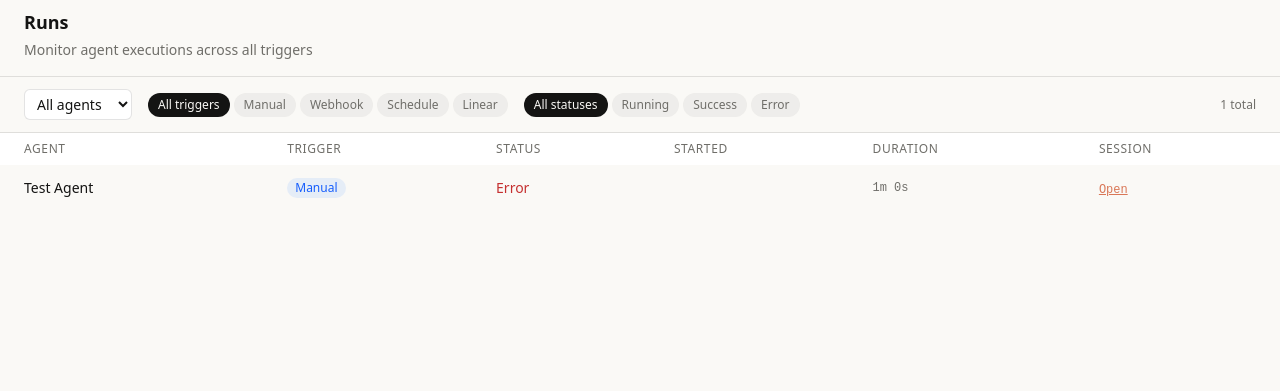
Test: RunsPage › shows error details in the detail panel when execution has an error
What coordinates should you click on to do the following:
click the button "Test Agent"
I would click on:
 (59, 188)
Its box is [24, 178, 93, 198].
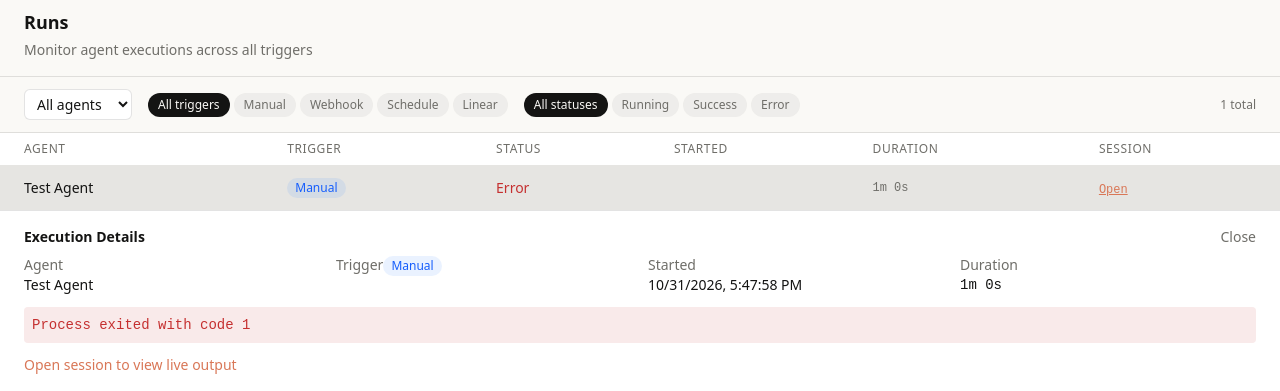
Expected: the text "Process exited with code 1" is shown, [24, 307, 1256, 343]
